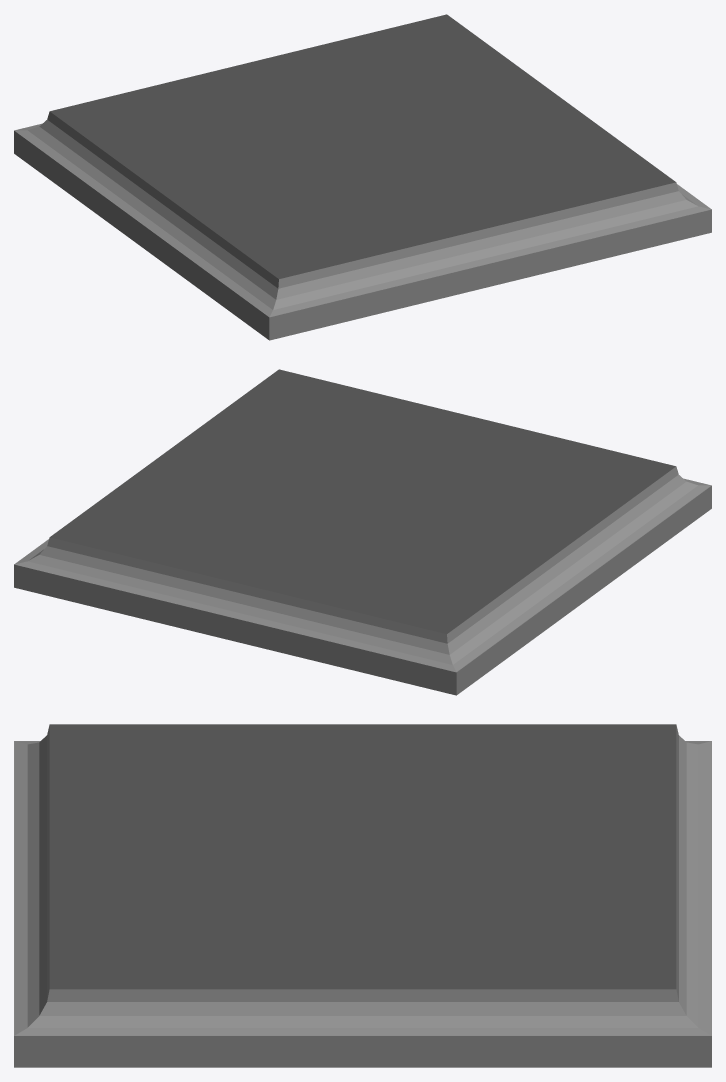
Rendered from Forbid.fbx.
3 views of the same model, one above another, from view 1: azimuth 30°, elevation 25°; view 2: azimuth 150°, elevation 25°; view 3: azimuth 270°, elevation 25° (orthographic). The views are drawn at different scales.
Parts seen in each view (by area): view 1: 立方体; view 2: 立方体; view 3: 立方体.
Boxes of the visible parts, x1,y1,x2,y2 form: 立方体: (14,14,711,340); 立方体: (14,369,711,695); 立方体: (14,724,711,1067).
Bounding box in the file's own units: 100 × 10 × 100.
2 materials, 1 textured.
